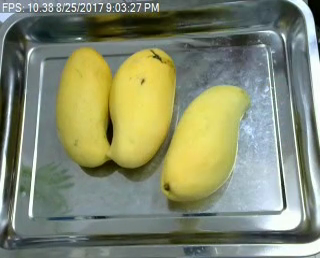Mango: (160, 84, 250, 201), (107, 48, 175, 168), (53, 46, 113, 169)
